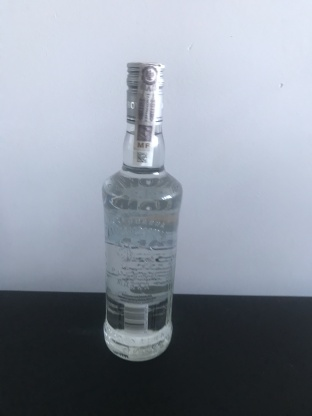nakretka: (123, 57, 167, 128)
